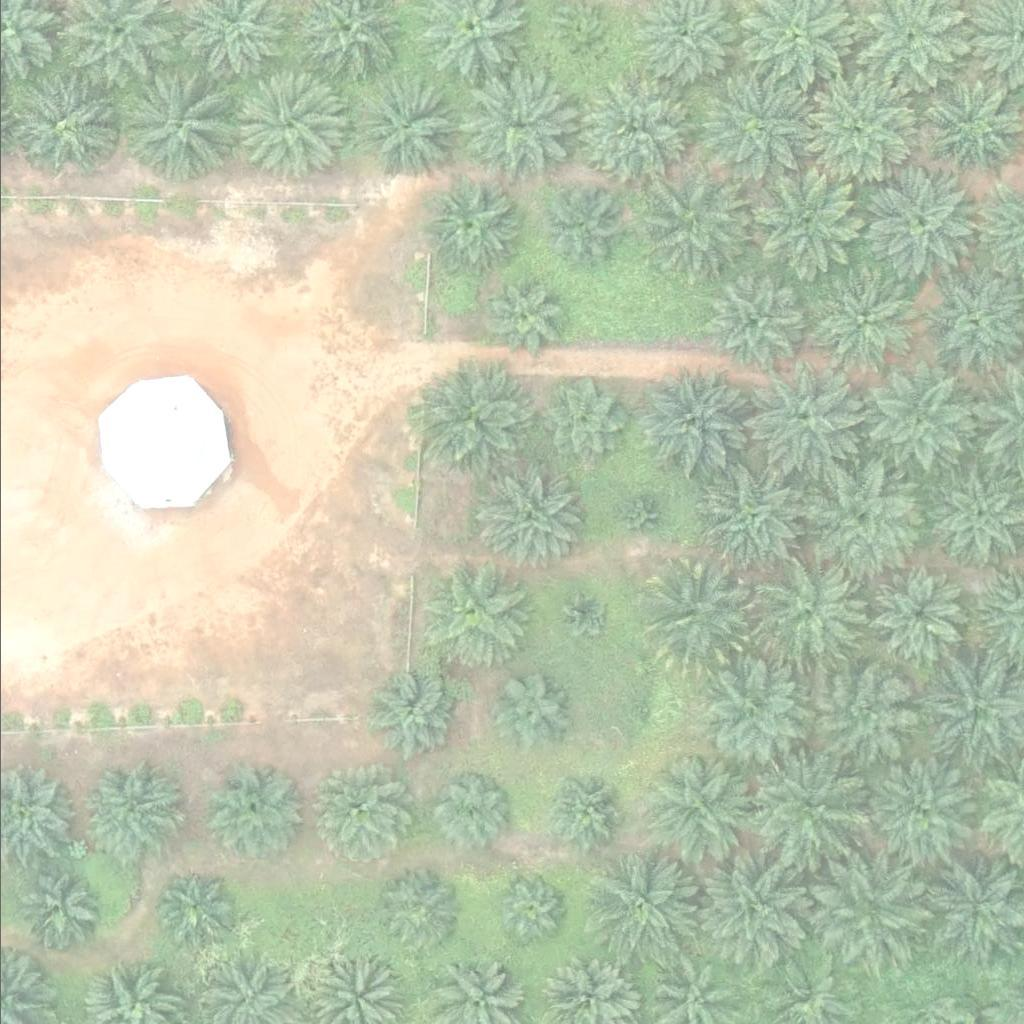Kelapa_Sawit: (593, 849, 707, 962), (862, 752, 976, 865), (752, 749, 866, 862), (579, 74, 693, 187), (643, 754, 756, 867), (803, 656, 916, 769), (859, 364, 972, 477), (746, 364, 859, 477), (631, 367, 744, 480), (810, 262, 923, 375), (799, 78, 912, 191), (704, 72, 817, 185), (456, 68, 569, 181), (352, 72, 465, 185), (229, 72, 342, 185), (117, 67, 230, 180), (418, 367, 531, 480), (812, 853, 926, 965), (695, 855, 809, 967), (417, 559, 531, 671), (642, 558, 755, 670), (696, 661, 809, 773), (752, 556, 865, 668), (806, 456, 919, 568), (699, 460, 812, 572), (862, 168, 975, 280), (750, 173, 863, 285), (643, 172, 756, 284), (468, 460, 581, 572), (867, 565, 968, 665), (702, 274, 803, 374), (83, 757, 184, 857), (11, 77, 111, 177), (310, 767, 410, 867), (203, 762, 303, 862), (424, 183, 513, 271), (370, 676, 458, 764), (535, 379, 623, 466), (485, 670, 573, 757), (535, 769, 623, 856), (426, 766, 514, 853), (371, 868, 459, 955), (15, 866, 103, 953), (537, 192, 613, 267), (155, 873, 231, 948), (487, 278, 562, 353), (492, 871, 567, 946), (547, 9, 610, 71), (614, 494, 665, 544), (558, 588, 609, 638), (622, 685, 672, 735)
